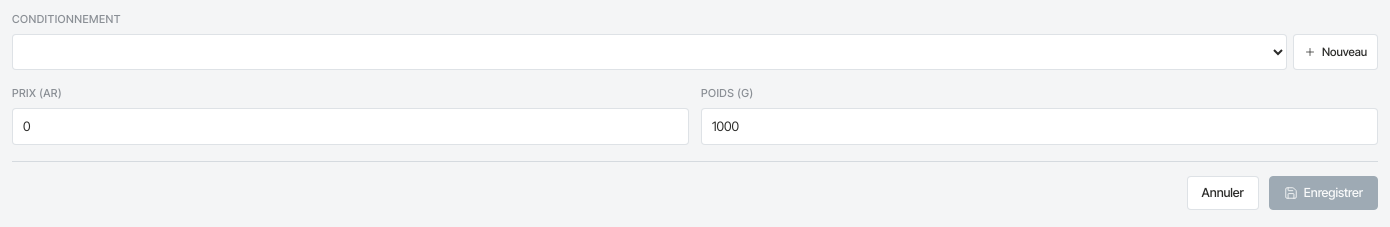
it: ErpProductPriceForm — création › désactive le bouton tant que le montant vaut 0
Expected: the submit button is disabled, x1=1269 y1=176 x2=1378 y2=210
Type "38" into the number field named "amount" at (350, 126), box x1=12 y1=108 x2=689 y2=145
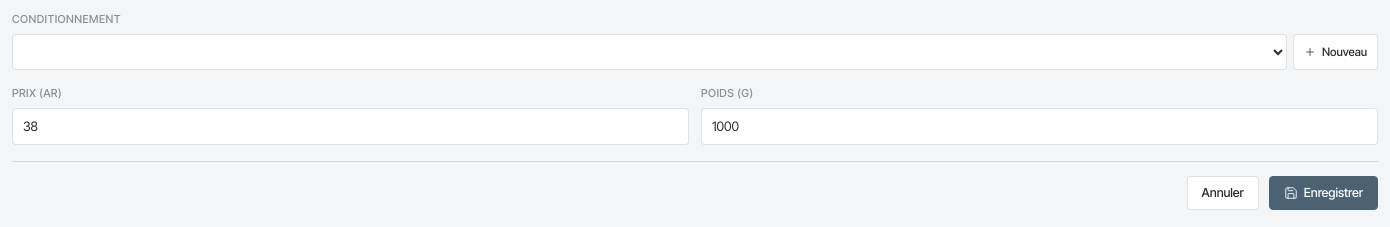
Now the submit button is enabled, box x1=1269 y1=176 x2=1378 y2=210
